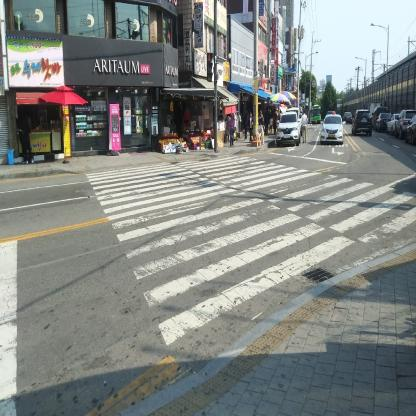Red: (207, 53, 213, 81)
